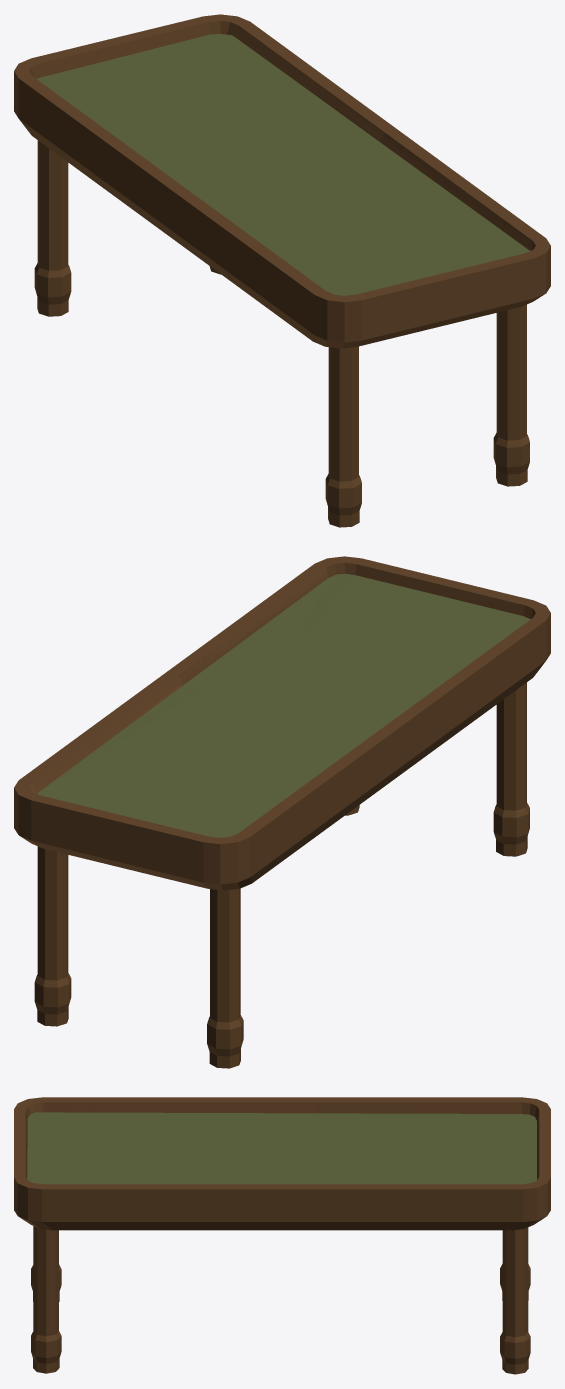
Rendered from PokertableBroken.fbx.
3 renders of one model, top to bottom at view 1: azimuth 30°, elevation 25°; view 2: azimuth 150°, elevation 25°; view 3: azimuth 270°, elevation 25°, orthographic. The views are drawn at different scales.
Parts seen in each view (by area): view 1: Cube, Cylinder, Cube_cell.003, Cube_cell.004, Cube_cell.002, Cube_cell.001, Cube_cell, Cylinder_cell.011; view 2: Cube, Cylinder, Cube_cell.004, Cube_cell.003, Cube_cell.002, Cube_cell.001, Cylinder_cell.016, Cylinder_cell.012, Cube_cell, Cylinder_cell.007, Cylinder_cell.006, Cylinder_cell.015 (+1 smaller); view 3: Cube, Cylinder, Cube_cell.001, Cube_cell.002, Cube_cell.004, Cube_cell.003, Cube_cell, Cylinder_cell.002.
Part boxes in pixels (x1,y1,x2,y2): Cube: (14,14,550,348); Cylinder: (34,141,529,527); Cube_cell.003: (14,46,167,222); Cube_cell.004: (143,169,447,340); Cube_cell.002: (383,130,550,322); Cube_cell.001: (230,19,396,147); Cube_cell: (98,14,243,50); Cylinder_cell.011: (493,368,513,476); Cube: (14,556,550,890); Cylinder: (34,682,529,1068); Cube_cell.004: (349,580,550,795); Cube_cell.003: (77,741,374,889); Cube_cell.002: (166,557,444,685); Cube_cell.001: (16,673,200,793); Cylinder_cell.016: (494,746,529,856); Cylinder_cell.012: (207,949,240,1050); Cube_cell: (14,784,159,849); Cylinder_cell.007: (210,888,240,956); Cylinder_cell.006: (35,846,68,1006); Cylinder_cell.015: (496,690,518,751); Cube: (14,1097,550,1230); Cylinder: (31,1226,530,1374); Cube_cell.001: (280,1183,527,1230); Cube_cell.002: (14,1143,282,1230); Cube_cell.004: (14,1097,319,1151); Cube_cell.003: (312,1097,550,1230); Cube_cell: (529,1126,550,1223); Cylinder_cell.002: (46,1230,58,1277).
Bounding box in the file's own units: 2 × 1.94 × 4.94.
